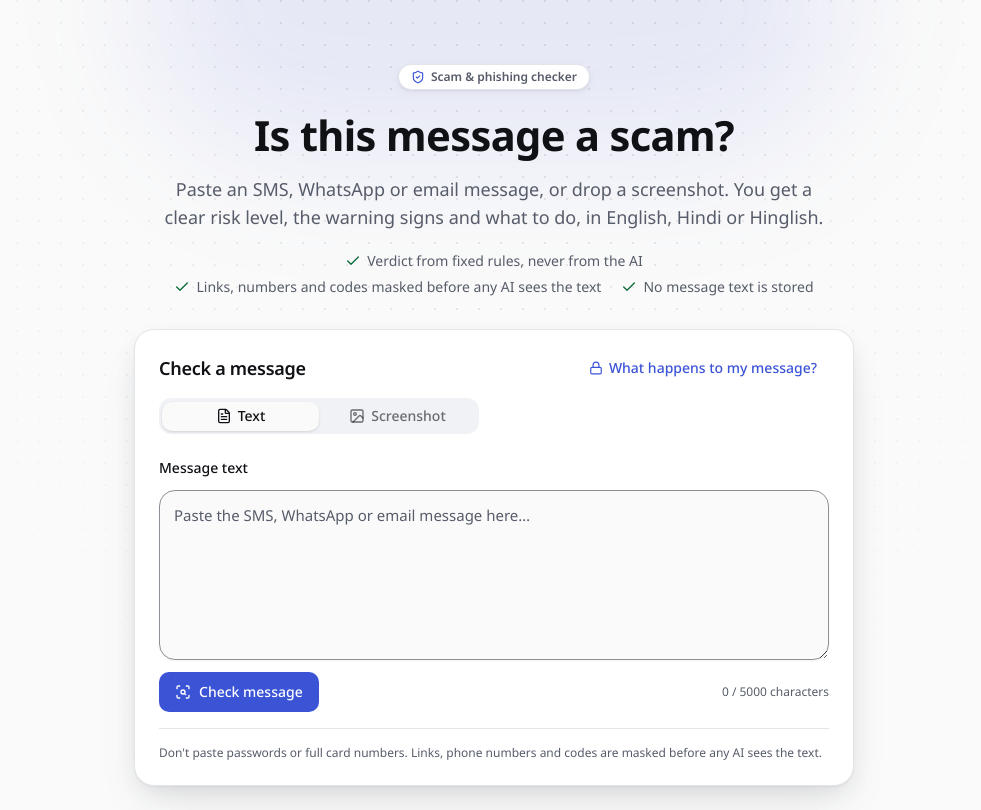
Test case: live mode › counts characters the way the API does (emoji count once)
This screenshot has width=981, height=810.
Type "😀😀" into the text box labelled "Message text" at (494, 575), box left=159, top=490, right=829, bottom=660
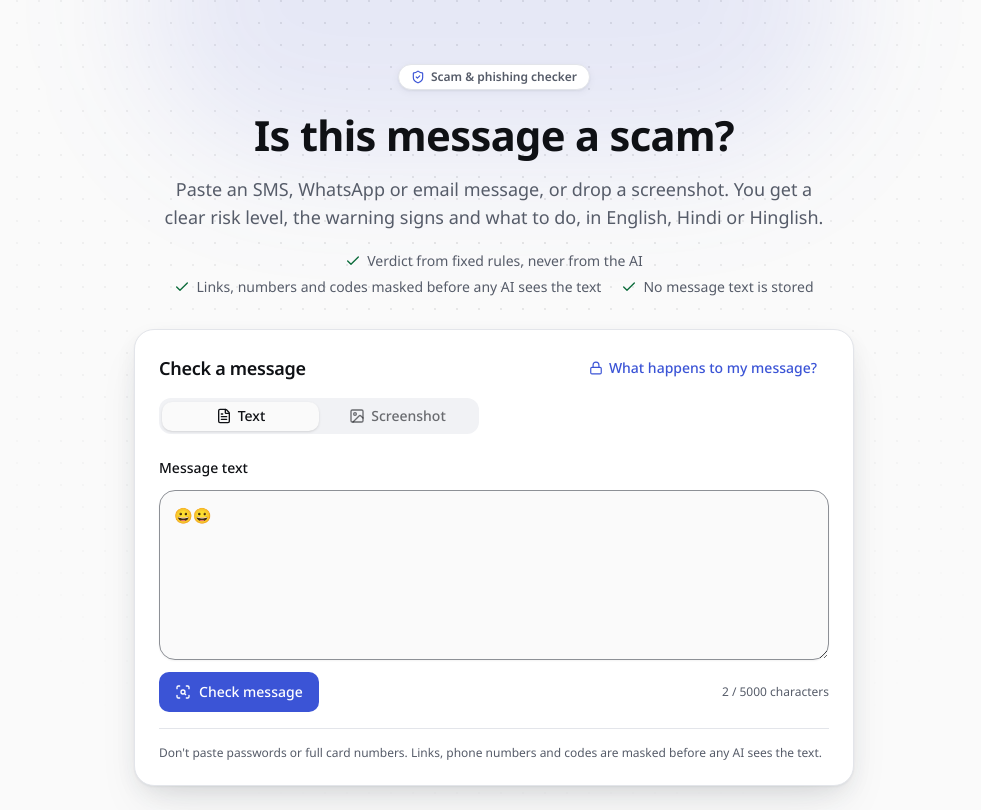
Expected: the text "2 / 5000 characters" is shown, left=722, top=684, right=829, bottom=700
